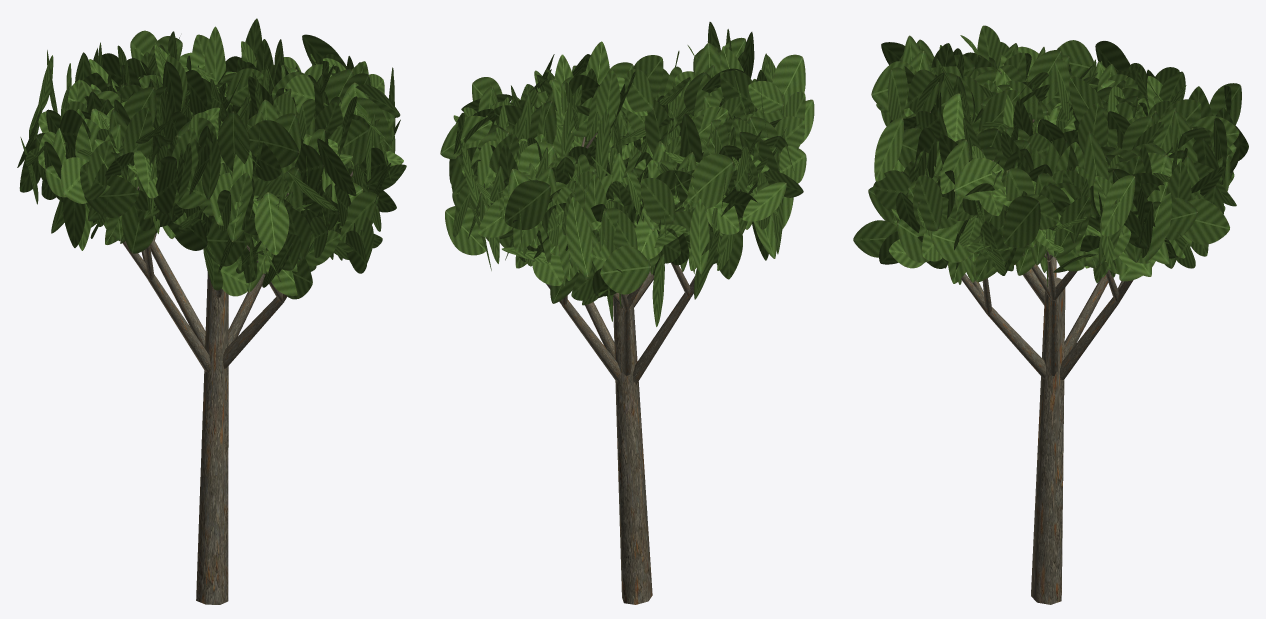
File: garden_tree.glb
3 views of the same model, side by side, from view 1: azimuth 30°, elevation 25°; view 2: azimuth 150°, elevation 25°; view 3: azimuth 270°, elevation 25° (orthographic). The views are drawn at different scales.
Bounding box in the file's own units: 3.2 × 4.8 × 3.2.
Materials: 2 (2 with a texture image).
